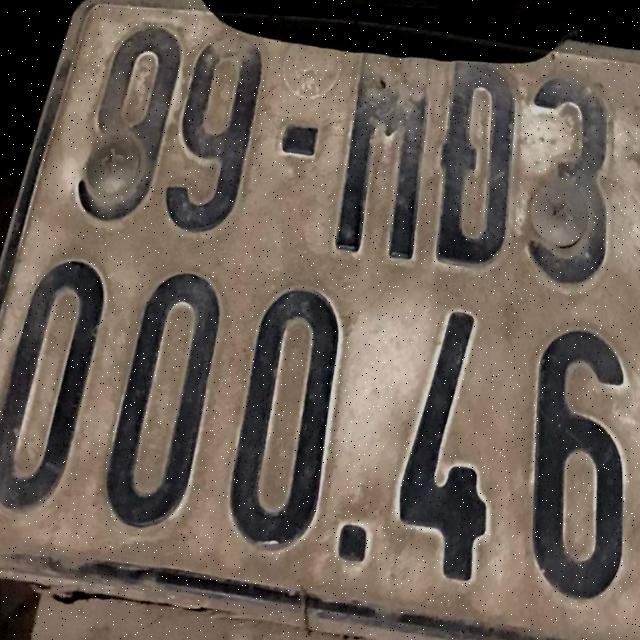0: (221, 278, 348, 556), (101, 264, 223, 534), (0, 252, 106, 516)
4: (385, 297, 502, 592)
6: (521, 318, 634, 603)
9: (164, 32, 265, 238)
D: (431, 71, 521, 273)
